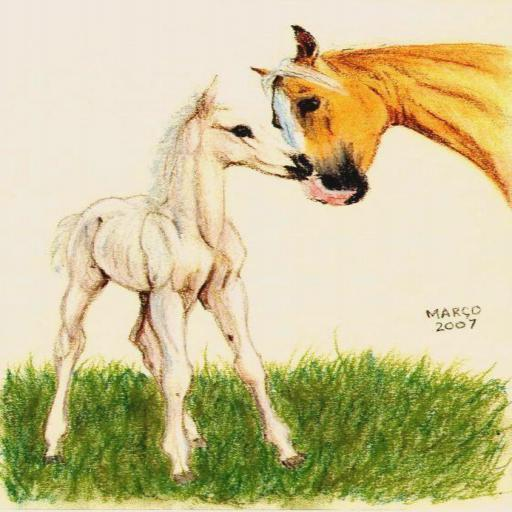horse: (36, 70, 316, 486), (243, 20, 511, 212)
